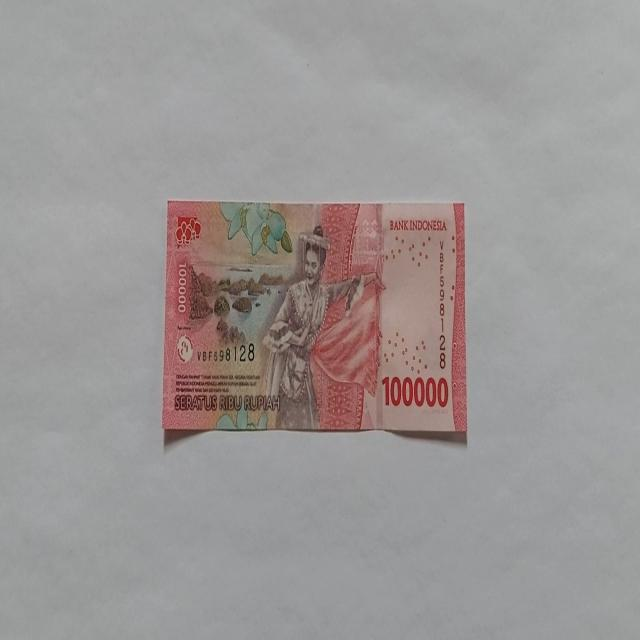seratus ribu rupiah: (161, 199, 467, 437), (259, 224, 375, 428)
